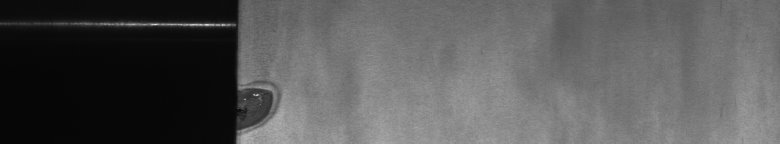hb: (248, 76, 286, 136)
